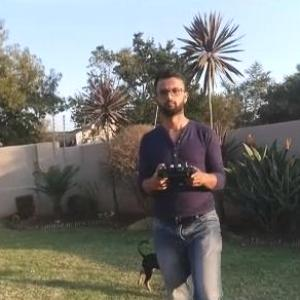follow: (142, 67, 233, 299)
